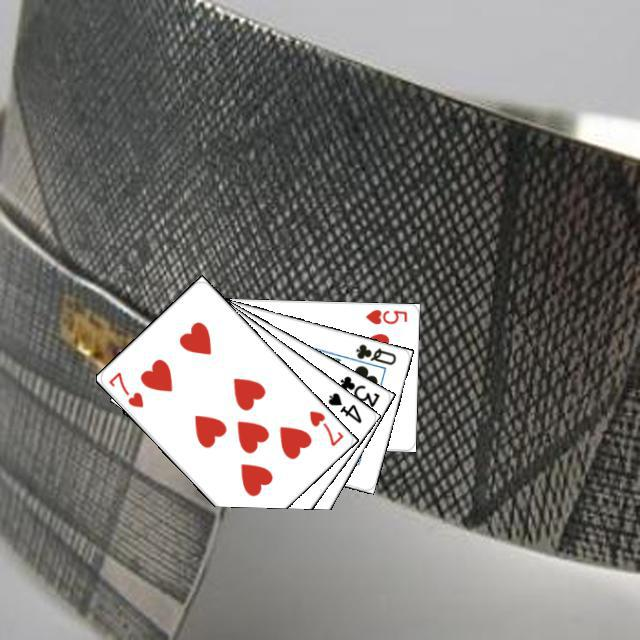3c: (335, 371, 381, 409)
4s: (323, 387, 363, 425)
5h: (360, 305, 409, 326)
7h: (103, 367, 145, 410), (304, 405, 345, 448)
Qc: (344, 339, 398, 373)
